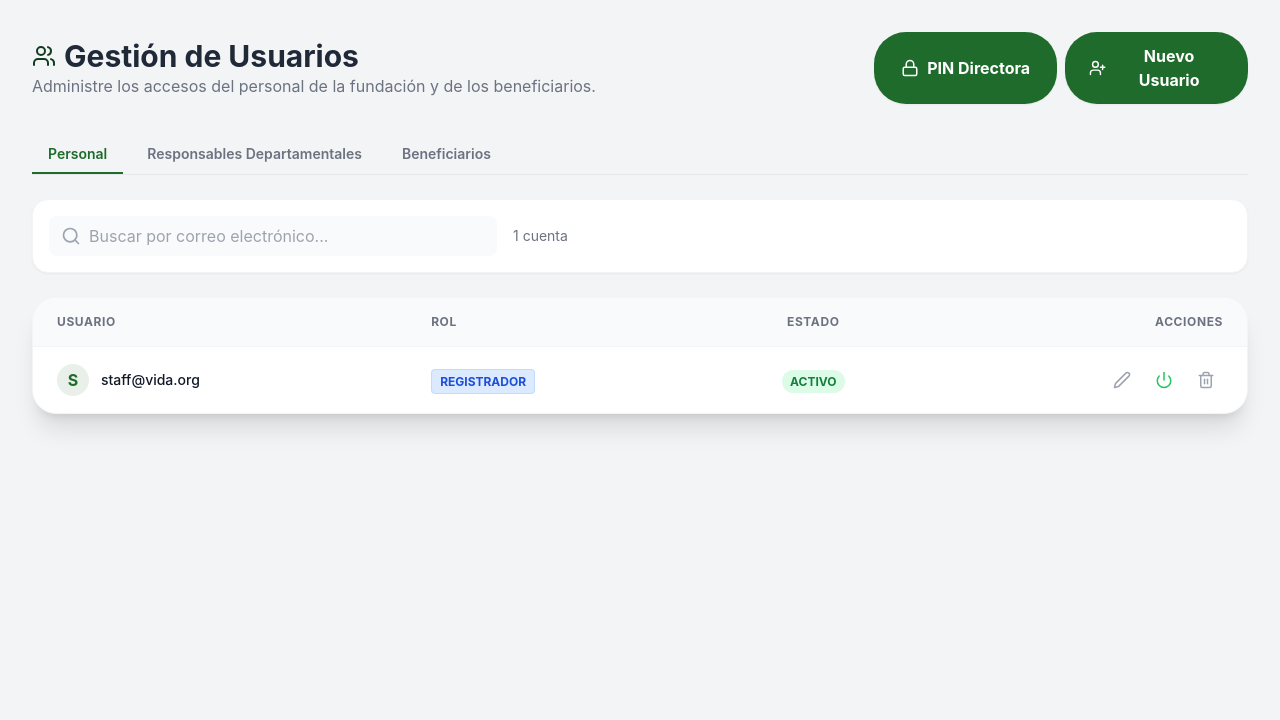
Test: UsersManagementPage: rol de la cuenta de un beneficiario › no ofrece PACIENTE al crear una cuenta ni al editar personal
Expected: the text "staff@vida.org" is shown, top-left (101, 370), bottom-right (200, 390)
Click the button titled "Editar" at (1122, 380), box top-left (1105, 363), bottom-right (1139, 397)
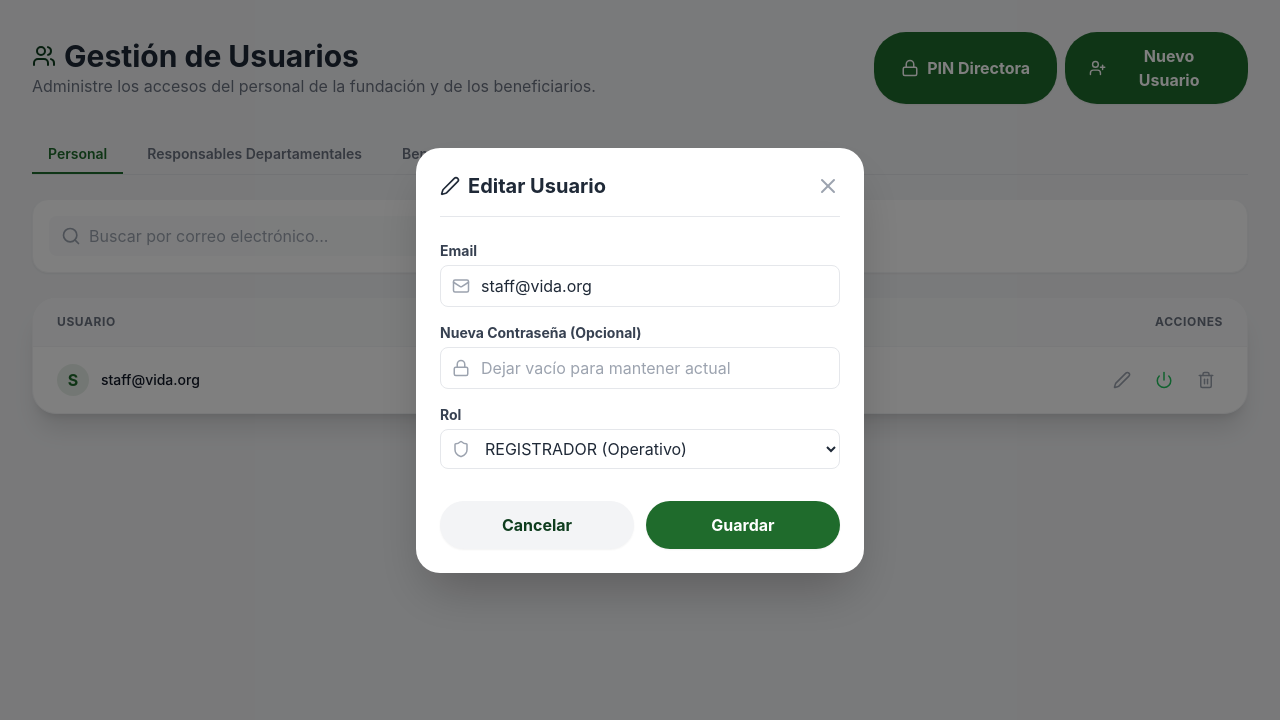
Expected: the dropdown named "Rol" shows "REGISTRADOR (Operativo)", top-left (440, 428), bottom-right (840, 468)
